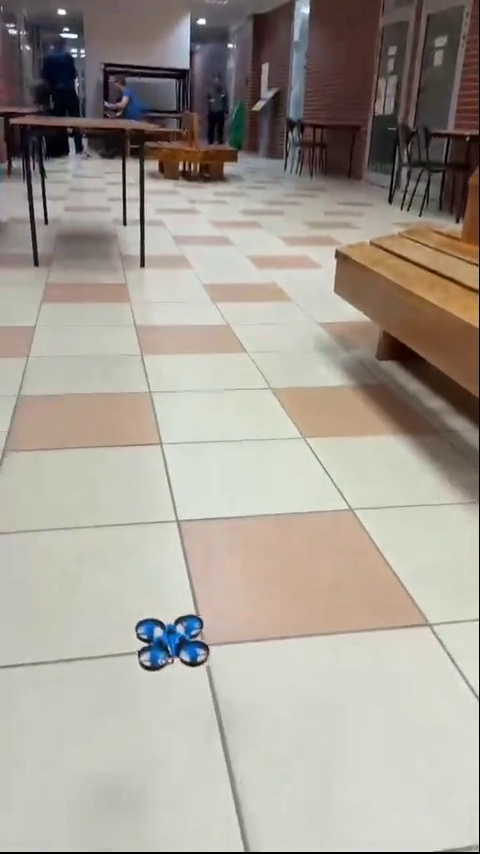drone: (135, 616, 210, 671)
no vest: (41, 37, 86, 163), (110, 61, 149, 126), (206, 67, 236, 150)
